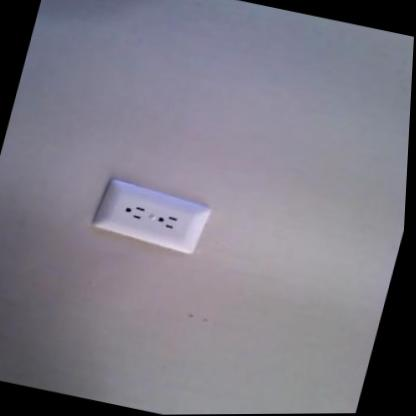OUTLET: (89, 174, 213, 257)
